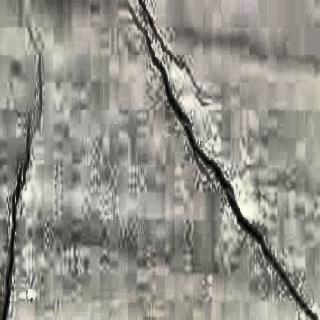crack: (128, 0, 320, 320), (0, 46, 44, 320)
